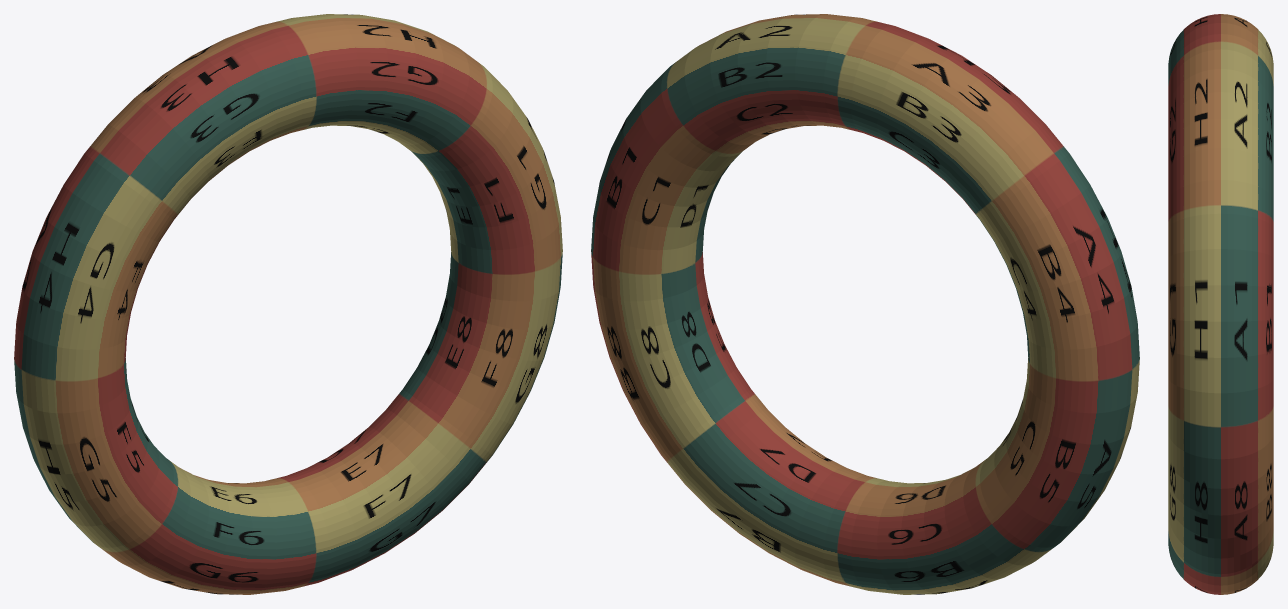
File: texture_torus_R13_r8.glb
3 views of the same model, side by side, from view 1: azimuth 30°, elevation 25°; view 2: azimuth 150°, elevation 25°; view 3: azimuth 270°, elevation 25° (orthographic). The views are drawn at different scales.
Visible parts, largest first — view 1: world; view 2: world; view 3: world.
Part boxes in pixels (bbox=[...]): world: bbox=[14, 14, 562, 594]; world: bbox=[591, 14, 1139, 594]; world: bbox=[1168, 14, 1273, 594].
Bounding box in the file's own units: 22.8 × 22.76 × 4.13.
Materials: 1 (1 with a texture image).
